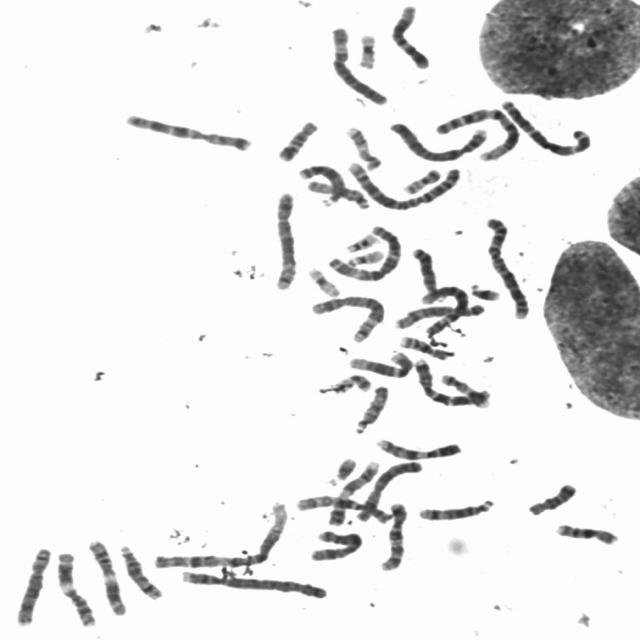A1: (150, 498, 290, 571), (432, 103, 522, 162)
A2: (341, 157, 464, 211), (482, 213, 532, 320)
A3: (496, 95, 595, 157), (325, 221, 404, 283)
B4: (177, 566, 331, 602), (382, 117, 490, 164)
B5: (306, 291, 387, 344), (269, 188, 300, 292)
C10: (290, 491, 394, 524), (376, 498, 408, 573)
C11: (52, 548, 99, 628), (83, 536, 129, 616)
C12: (387, 0, 434, 70), (346, 347, 414, 379)
C6: (325, 23, 390, 106), (416, 282, 472, 338)
C7: (120, 110, 256, 153), (411, 354, 494, 409)
C8: (11, 543, 54, 628), (390, 300, 487, 330)
C9: (323, 457, 381, 528), (372, 434, 464, 462)
D13: (295, 161, 348, 209), (408, 244, 448, 304)
D14: (116, 541, 166, 601), (413, 496, 497, 522)
D15: (303, 177, 374, 211), (349, 382, 391, 436)
E16: (551, 520, 620, 546), (395, 332, 450, 361)
E17: (436, 369, 494, 409), (342, 122, 384, 171)
E18: (525, 479, 580, 517), (274, 117, 320, 162)
F19: (304, 264, 342, 298), (353, 29, 379, 71)
F20: (398, 165, 444, 195), (329, 371, 373, 394)
G21: (328, 453, 359, 484), (466, 279, 503, 303)
G22: (342, 246, 386, 268), (342, 230, 381, 254)
X: (352, 458, 424, 524), (305, 528, 365, 563)
